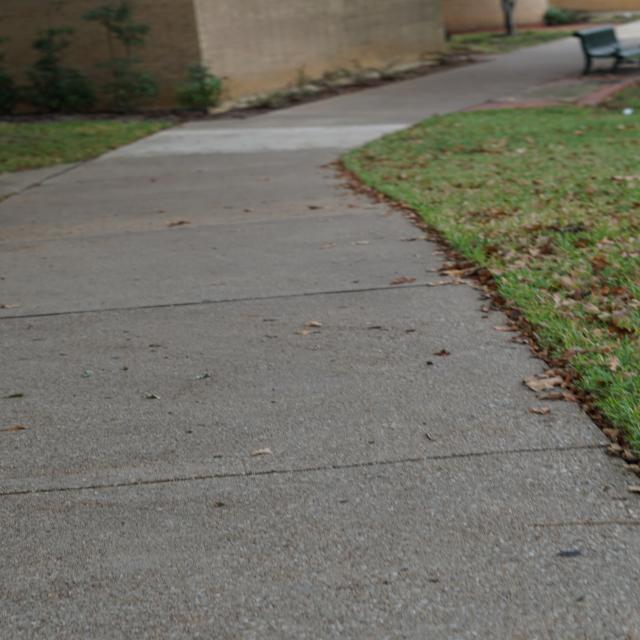Obstacle: (574, 27, 640, 75)
Sidewalk: (0, 38, 640, 638), (614, 20, 640, 45)
